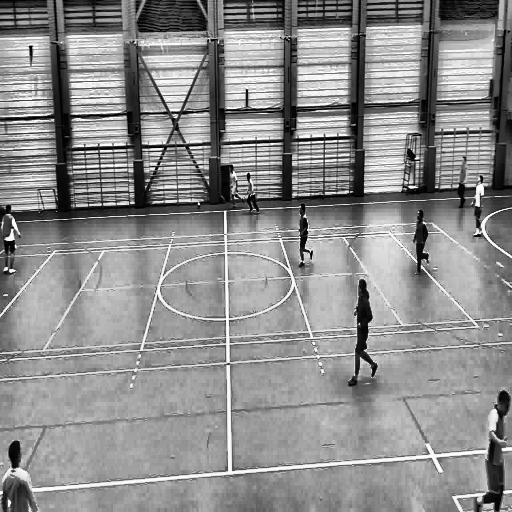ball: (196, 200, 203, 210)
player: (473, 382, 512, 512), (348, 278, 378, 388), (2, 202, 22, 278), (412, 208, 431, 278), (298, 202, 316, 270), (471, 175, 487, 242), (226, 164, 247, 213), (246, 172, 262, 217), (456, 152, 468, 210)
